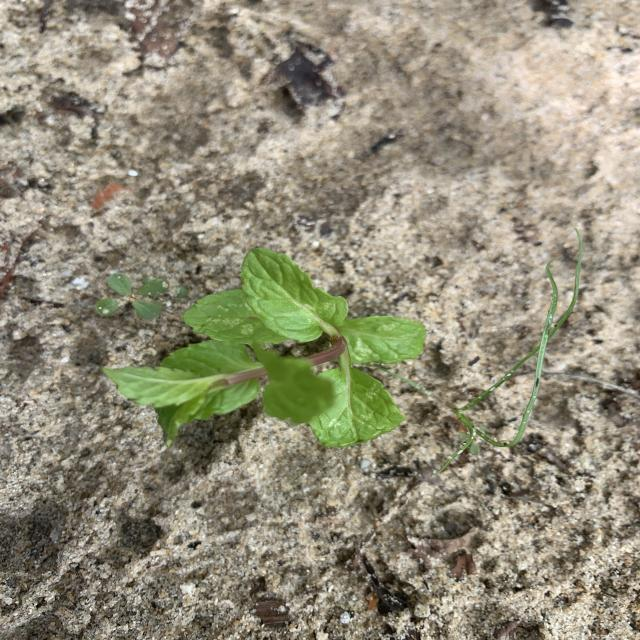crop: (103, 248, 426, 446)
weed: (523, 228, 583, 420), (434, 366, 517, 476), (95, 273, 169, 320)
